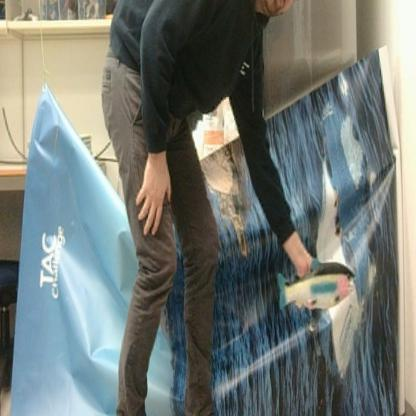rubberfish: (276, 254, 357, 316)
